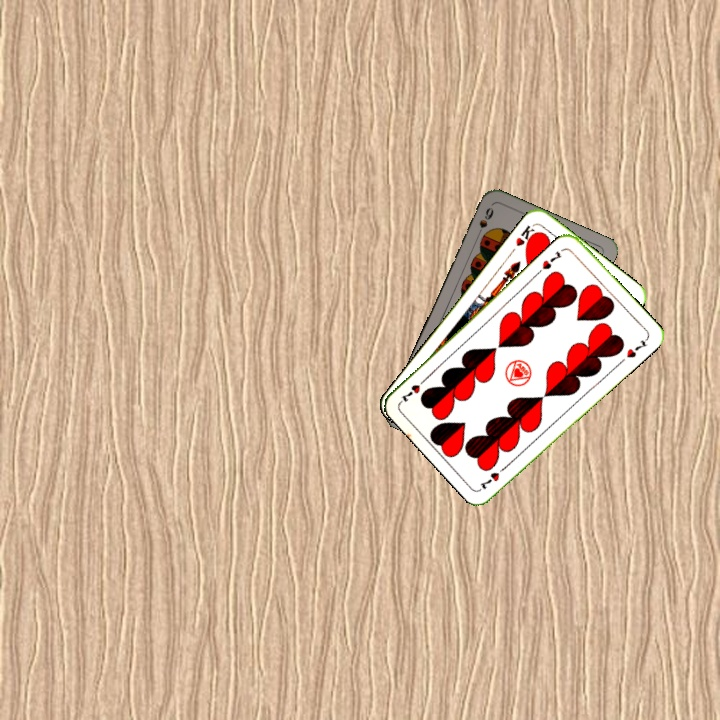H7: (475, 461, 510, 492), (538, 247, 564, 272)
HK: (511, 220, 540, 250)
S9: (472, 203, 496, 241)
